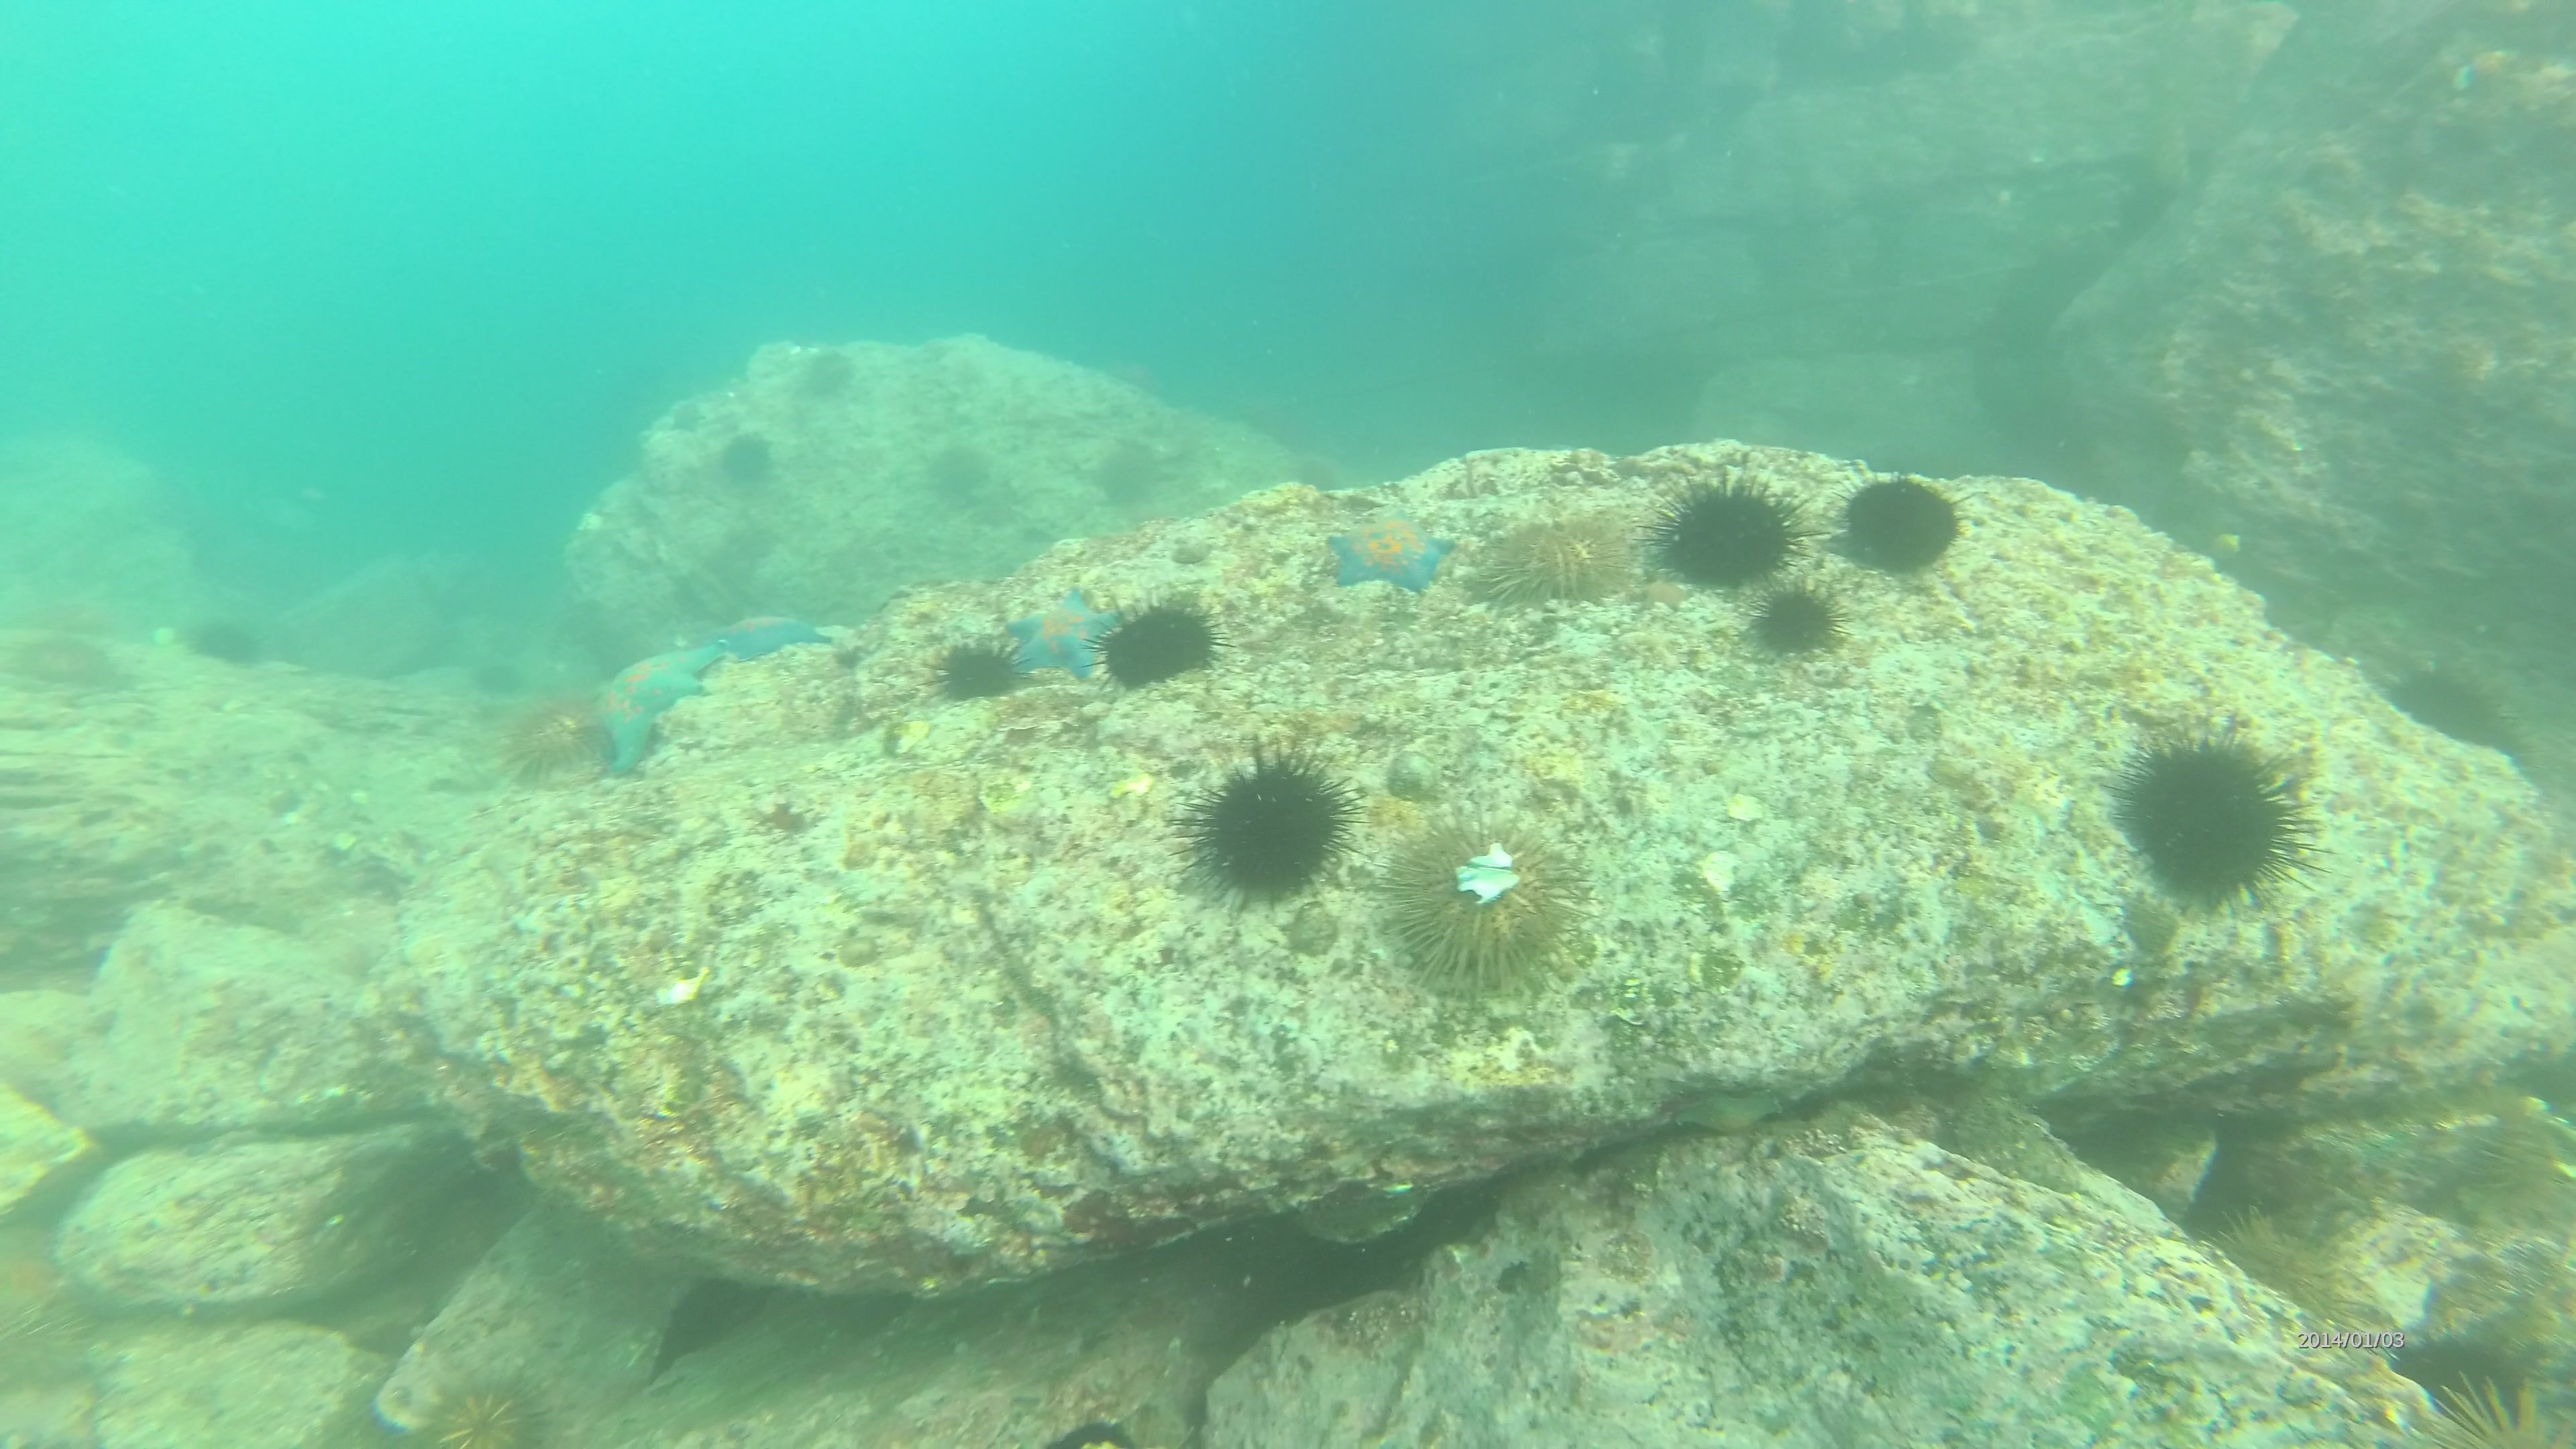echinus: (2100, 718, 2328, 911), (2348, 1049, 2576, 1240), (1385, 812, 1603, 984), (1185, 741, 1361, 897), (1640, 476, 1819, 589), (2199, 1200, 2355, 1325), (1463, 517, 1631, 609), (1836, 456, 1960, 579), (1104, 600, 1230, 692), (0, 1274, 97, 1376), (414, 1371, 536, 1449), (490, 695, 602, 778), (161, 593, 271, 676), (1746, 584, 1852, 658), (936, 635, 1030, 706), (936, 444, 1001, 495), (722, 432, 778, 483), (807, 345, 853, 396)
starfish: (580, 649, 725, 771), (1315, 504, 1460, 602), (996, 582, 1141, 679), (706, 609, 833, 660)
